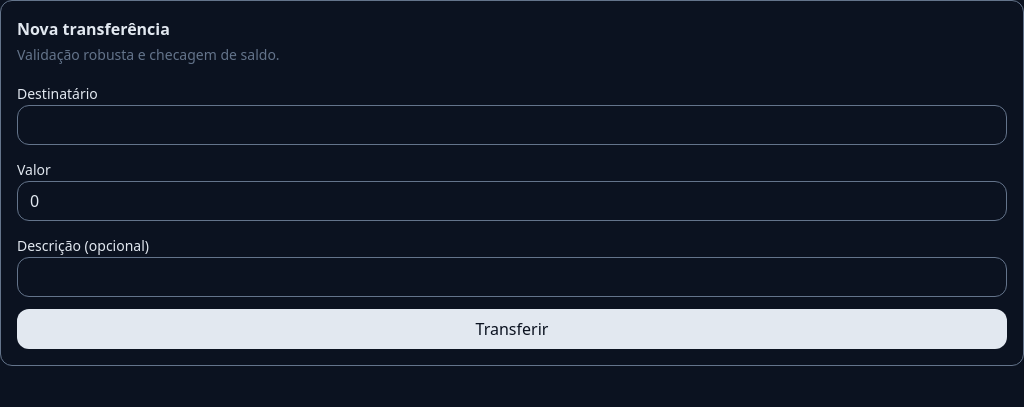
Test case: TransferForm › submete com sucesso, mostra feedback e reseta o form
Type "Maria" into the field labelled "Destinatário". click: point(512, 125)
box: [17,105,1007,145]
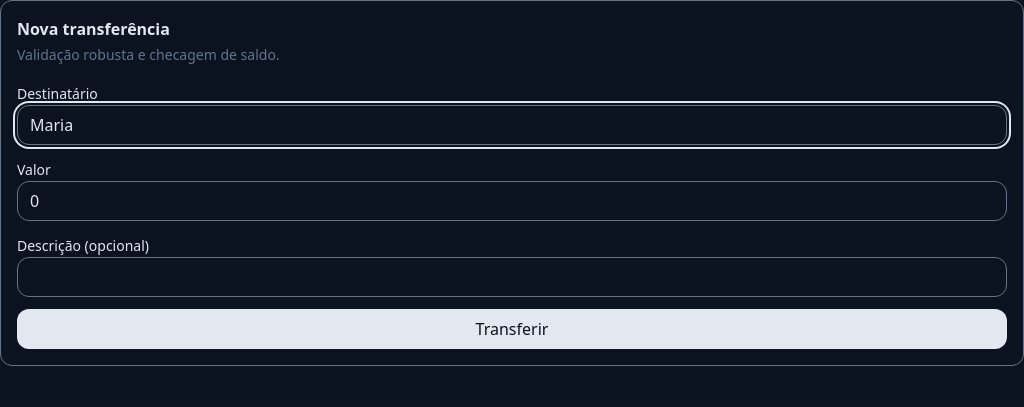
Replace the text in the number field labelled "Valor" with "25.5". click: point(512, 201)
box: [17,181,1007,221]
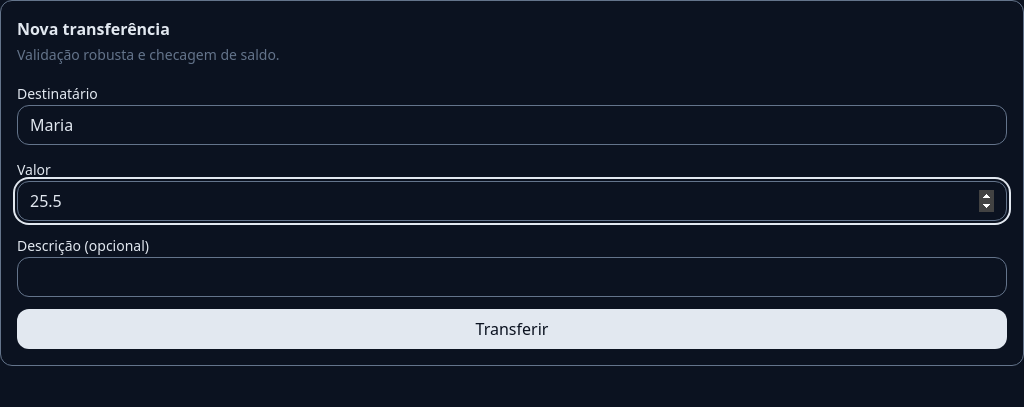
Type "Aluguel" into the field labelled "Descrição (opcional)". click: point(512, 277)
box: [17,257,1007,297]
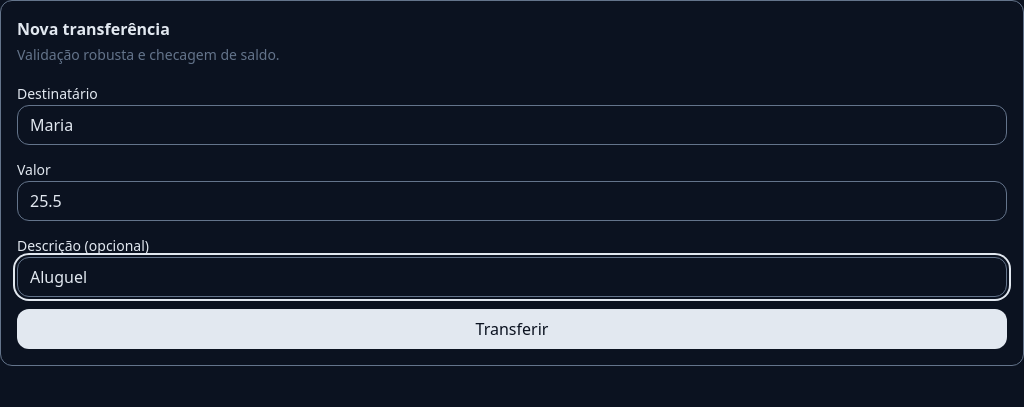
Click the button "Transferir". click: point(512, 329)
box: [17,309,1007,349]
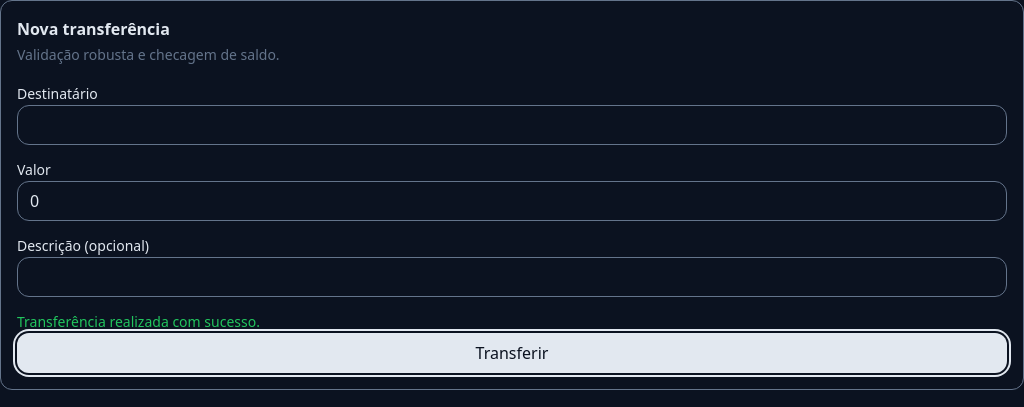
Expected: the text "Transferência realizada com sucesso." is shown, [17,312,260,331]
Expected: the number field labelled "Valor" holds "0", [17,181,1007,221]
